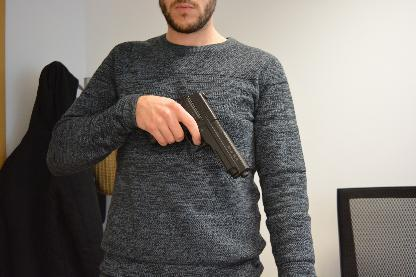pistol: (144, 88, 250, 179)
